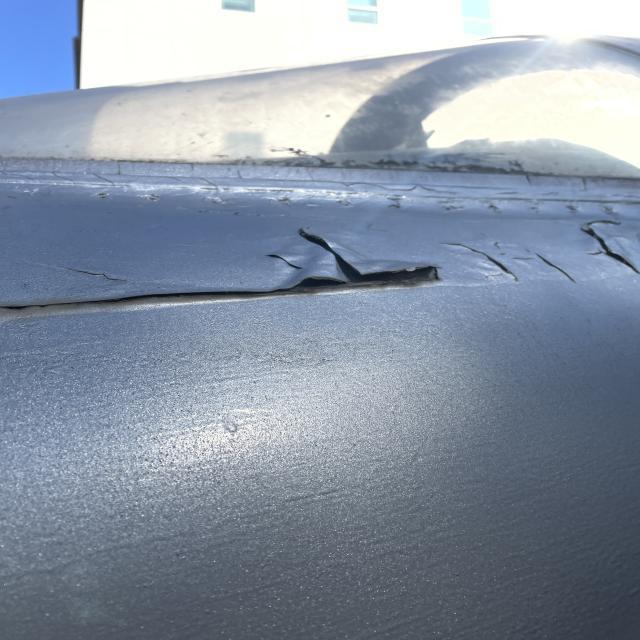crack: (0, 229, 442, 322), (581, 221, 640, 277), (443, 243, 519, 282), (67, 260, 154, 285), (535, 254, 576, 283), (257, 249, 311, 271)
